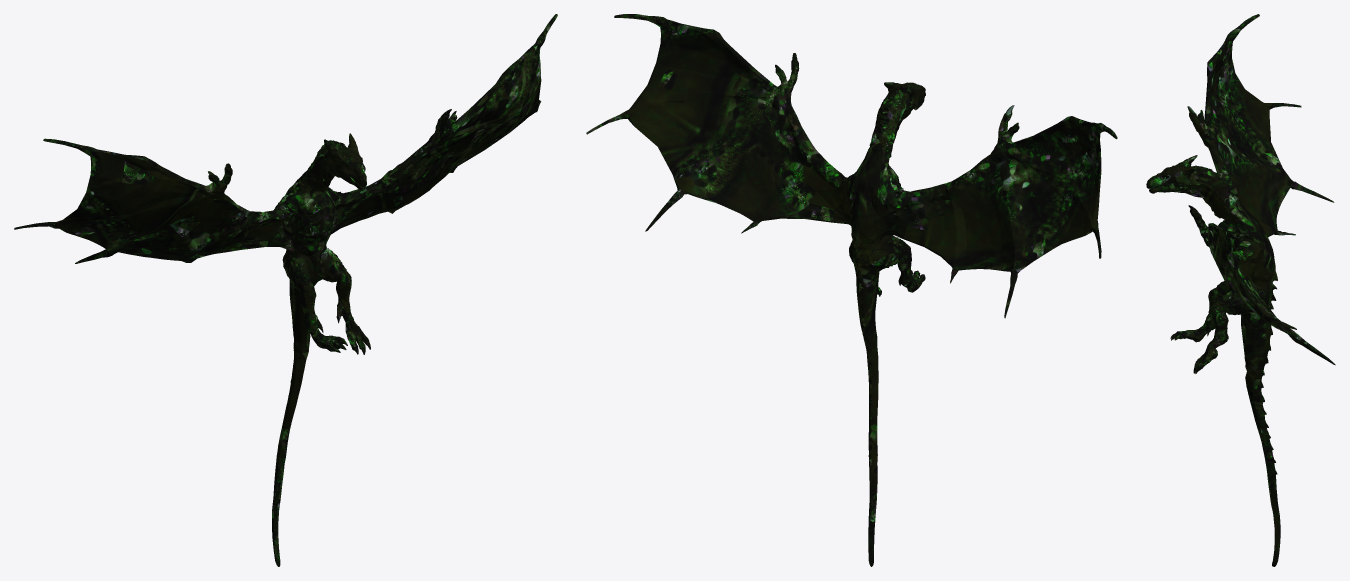
Rendered from frame_0026_uv.obj.
The picture shows the model from 3 angles, left to right: view 1: azimuth 30°, elevation 25°; view 2: azimuth 150°, elevation 25°; view 3: azimuth 270°, elevation 25°; orthographic projection. The views are drawn at different scales.
Visible parts, largest first — view 1: pMesh1; view 2: pMesh1; view 3: pMesh1.
Boxes of the visible parts, <box> form: pMesh1: <box>14,14,557,566</box>; pMesh1: <box>586,14,1117,566</box>; pMesh1: <box>1146,14,1335,566</box>.
Bounding box in the file's own units: 14.29 × 12.8 × 4.92.
